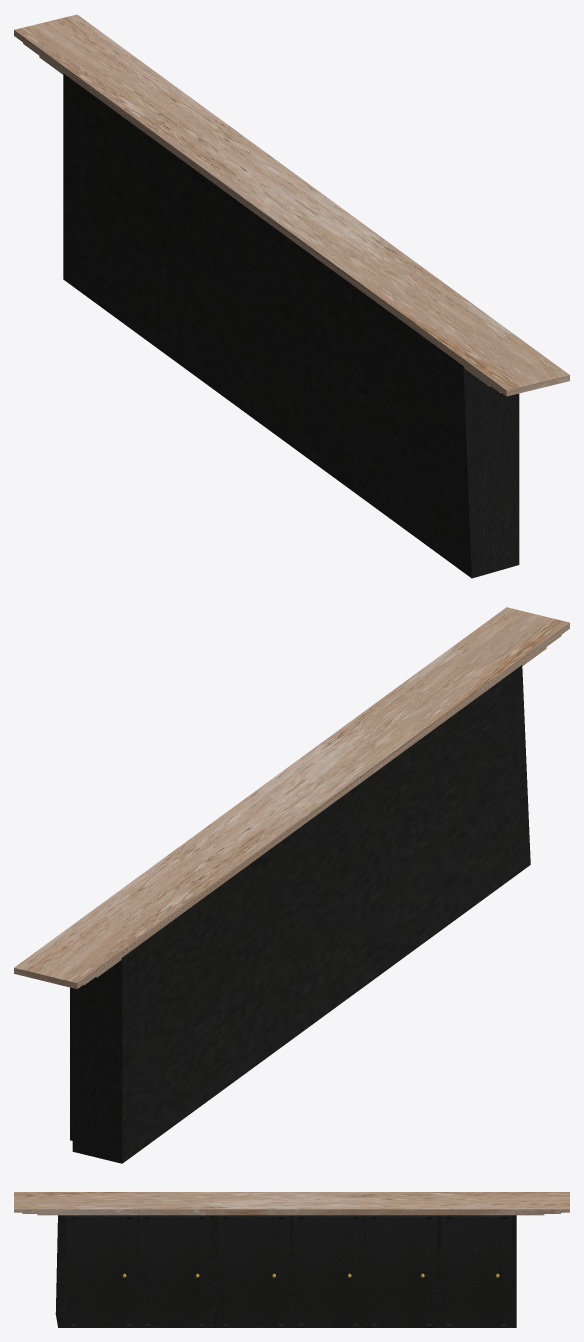
Rendered from Desk Above sink.fbx.
The picture shows the model from 3 angles, top to bottom: view 1: azimuth 30°, elevation 25°; view 2: azimuth 150°, elevation 25°; view 3: azimuth 270°, elevation 25°; orthographic projection. The views are drawn at different scales.
Visible parts, largest first — view 1: pCube953, pCube957, pCube1103; view 2: pCube953, pCube957, pCube1103; view 3: pCube957, pCube1100, pCube1098, pCube1102, pCube1101, pCube1099, pCube1052, pCube953, pCube1103, pCube1104.
Boxes of the visible parts, x1=… form: pCube953: x1=63, y1=73, x2=519, y2=578; pCube957: x1=14, y1=14, x2=569, y2=396; pCube1103: x1=23, y1=42, x2=501, y2=392; pCube953: x1=72, y1=665, x2=530, y2=1163; pCube957: x1=14, y1=607, x2=569, y2=988; pCube1103: x1=83, y1=635, x2=561, y2=985; pCube957: x1=14, y1=1192, x2=569, y2=1212; pCube1100: x1=218, y1=1215, x2=289, y2=1325; pCube1098: x1=366, y1=1215, x2=437, y2=1325; pCube1102: x1=66, y1=1215, x2=137, y2=1325; pCube1101: x1=139, y1=1215, x2=210, y2=1325; pCube1099: x1=293, y1=1215, x2=364, y2=1325; pCube1052: x1=441, y1=1215, x2=511, y2=1325; pCube953: x1=55, y1=1215, x2=516, y2=1327; pCube1103: x1=22, y1=1212, x2=560, y2=1213; pCube1104: x1=37, y1=1214, x2=544, y2=1215.
Bounding box in the file's own units: 66.33 × 208 × 862.
